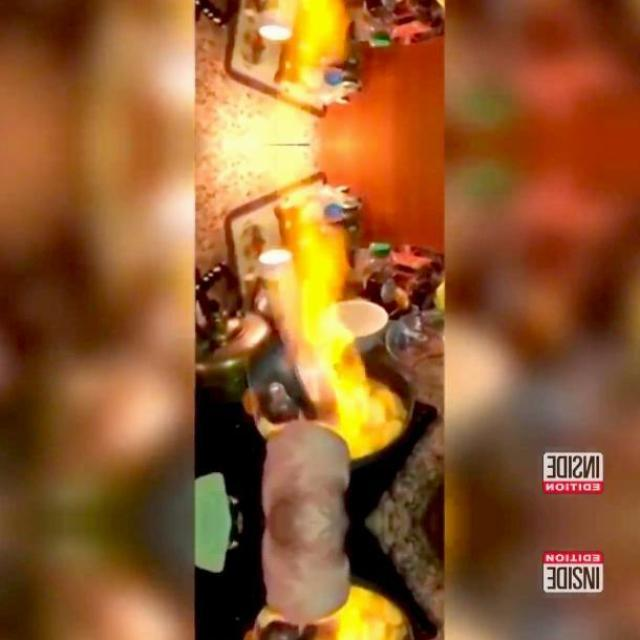smoke: (286, 166, 404, 456), (286, 0, 404, 123), (287, 588, 404, 640)
